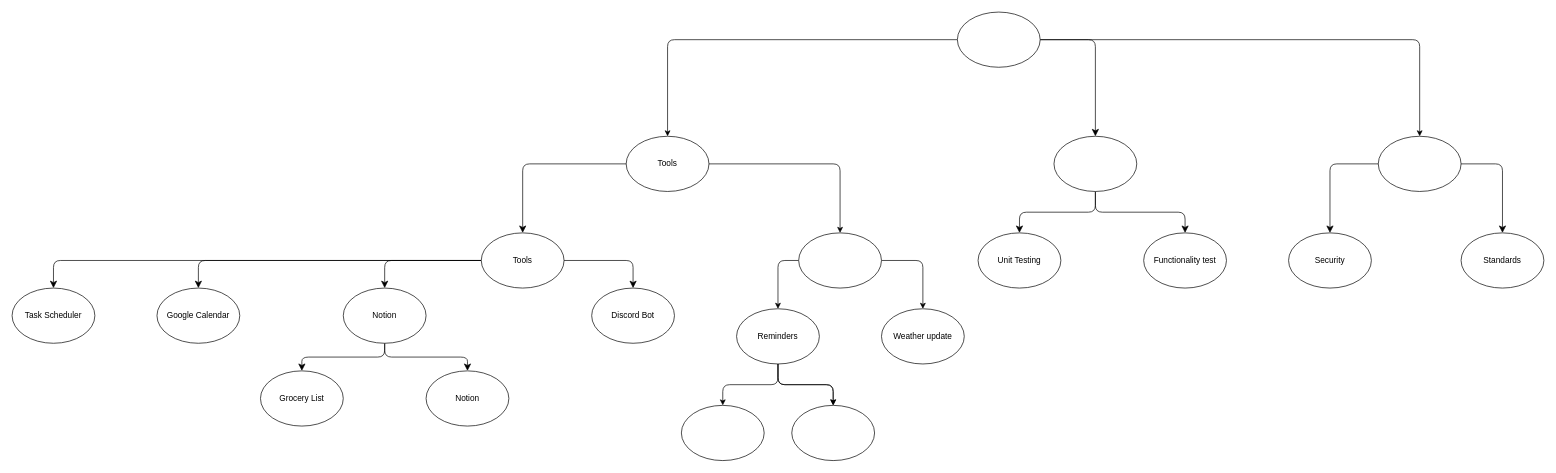
The diagram is 1556 pixels wide and 473 high, and some of its shapes have lost their labels. The shapes that lost their labels are listed below. From the top down, each one's centre as x and y in pixels, then its label:
(x=998, y=39): Agent Manager
(x=1095, y=163): Testing
(x=1419, y=163): Reviewers
(x=839, y=260): Daily Jobs
(x=722, y=433): Tasks
(x=833, y=433): Appointments
